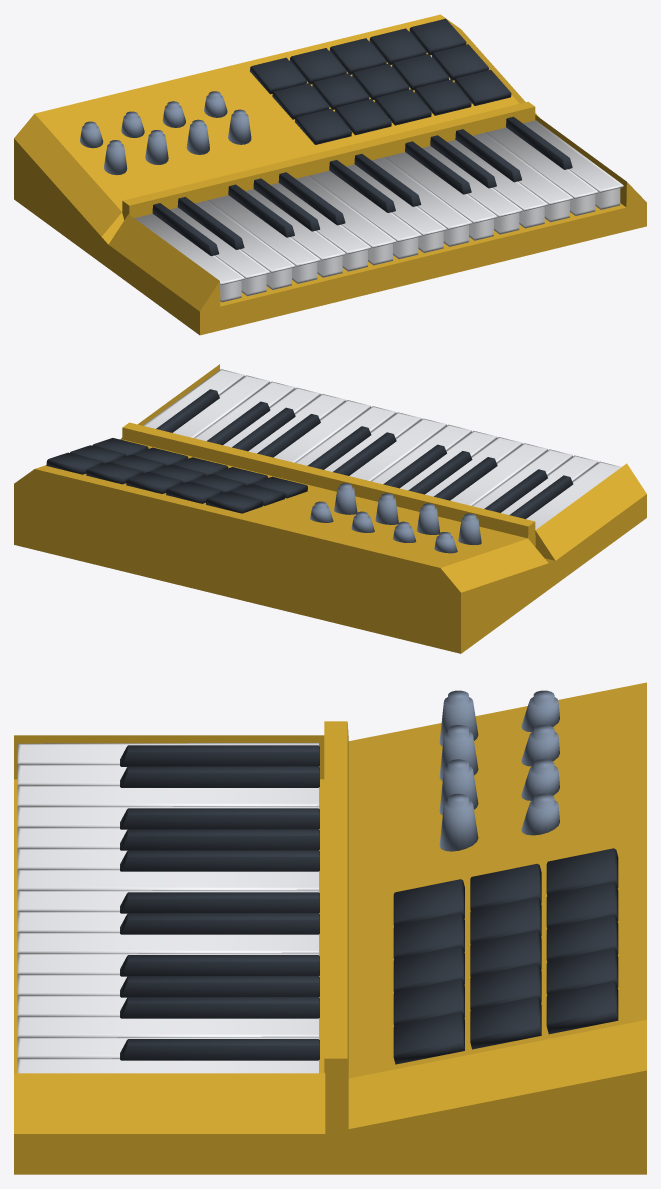
The model's file is SynthModel.glb.
3 views of the same model, one above another, from view 1: azimuth 30°, elevation 25°; view 2: azimuth 150°, elevation 25°; view 3: azimuth 270°, elevation 25° (orthographic). The views are drawn at different scales.
Parts seen in each view (by area): view 1: Base, WhiteKeys, Launchpad, BlackKeys, Knobs; view 2: Base, WhiteKeys, BlackKeys, Launchpad, Knobs; view 3: Base, WhiteKeys, BlackKeys, Launchpad, Knobs.
Boxes of the visible parts, <box> form: Base: <box>14,14,646,335</box>; WhiteKeys: <box>134,120,623,302</box>; Launchpad: <box>250,18,511,144</box>; BlackKeys: <box>152,116,572,256</box>; Knobs: <box>80,91,251,175</box>; Base: <box>14,364,646,653</box>; WhiteKeys: <box>143,369,621,545</box>; BlackKeys: <box>156,389,573,518</box>; Launchpad: <box>46,438,307,513</box>; Knobs: <box>310,483,481,553</box>; Base: <box>14,682,646,1174</box>; WhiteKeys: <box>17,743,318,1073</box>; BlackKeys: <box>120,745,319,1060</box>; Launchpad: <box>393,848,618,1064</box>; Knobs: <box>439,690,559,851</box>.
Bounding box in the file's own units: 5.65 × 1.04 × 4.07.
1 material, 1 textured.
